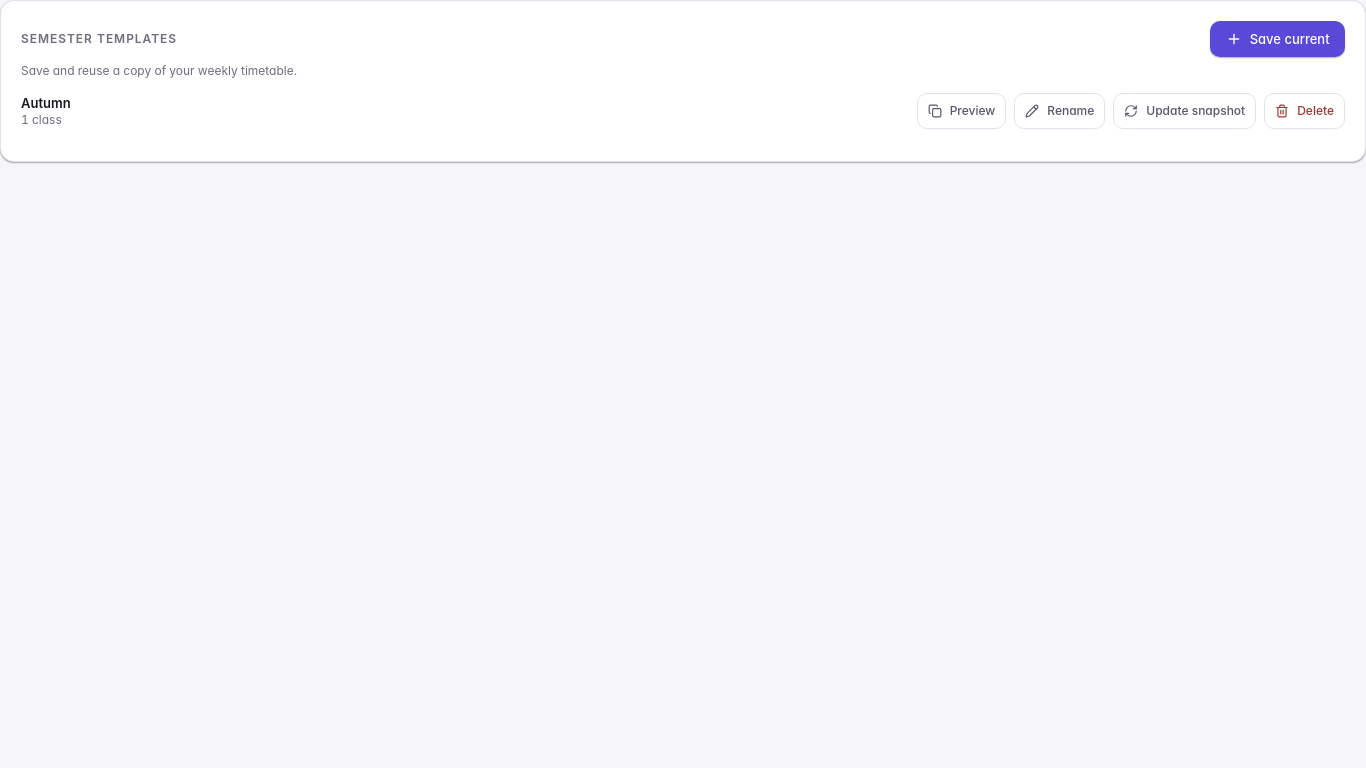
it: semester template UI › rejects duplicate template names before saving
The image size is (1366, 768).
Click the button "Save current" at [1278, 39], box [1210,21,1345,57]
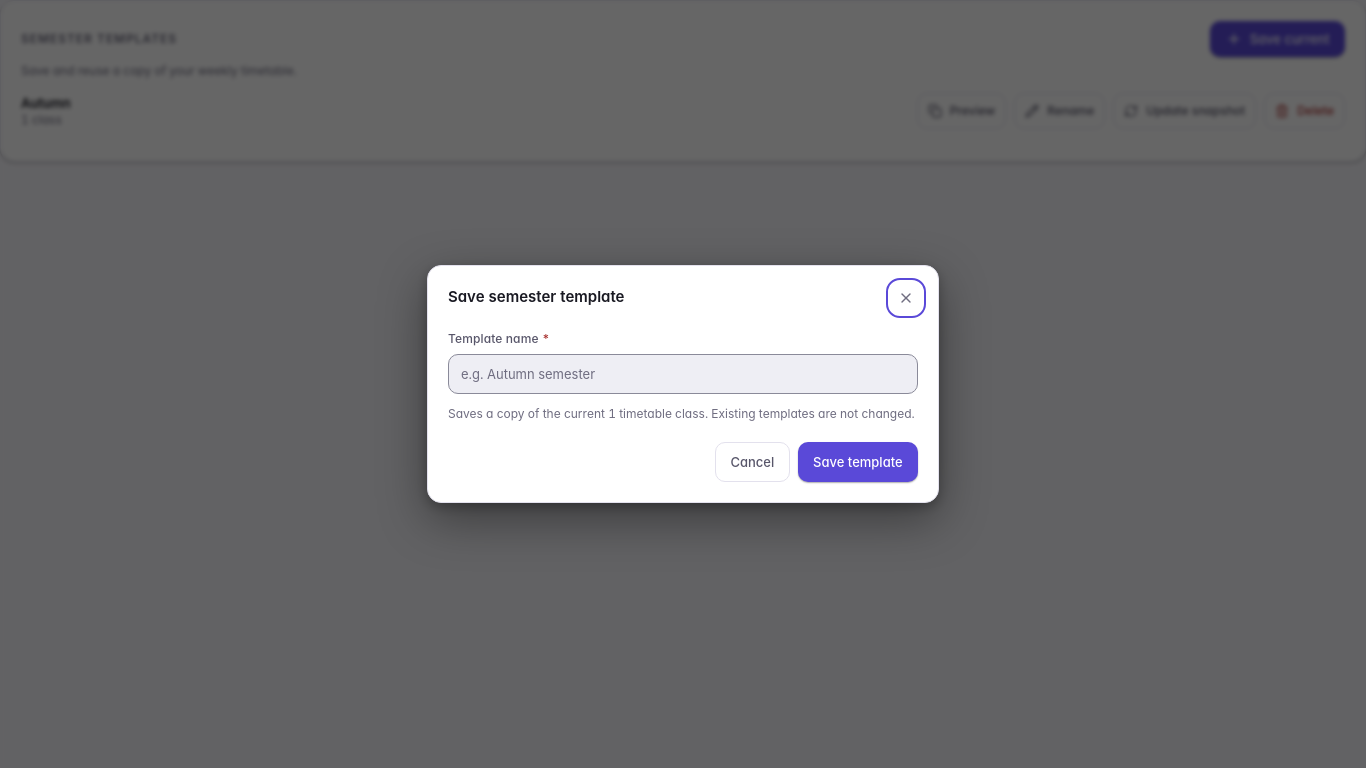
Type " autumn " into the field labelled "Template name *" at [683, 374], box [448,354,918,394]
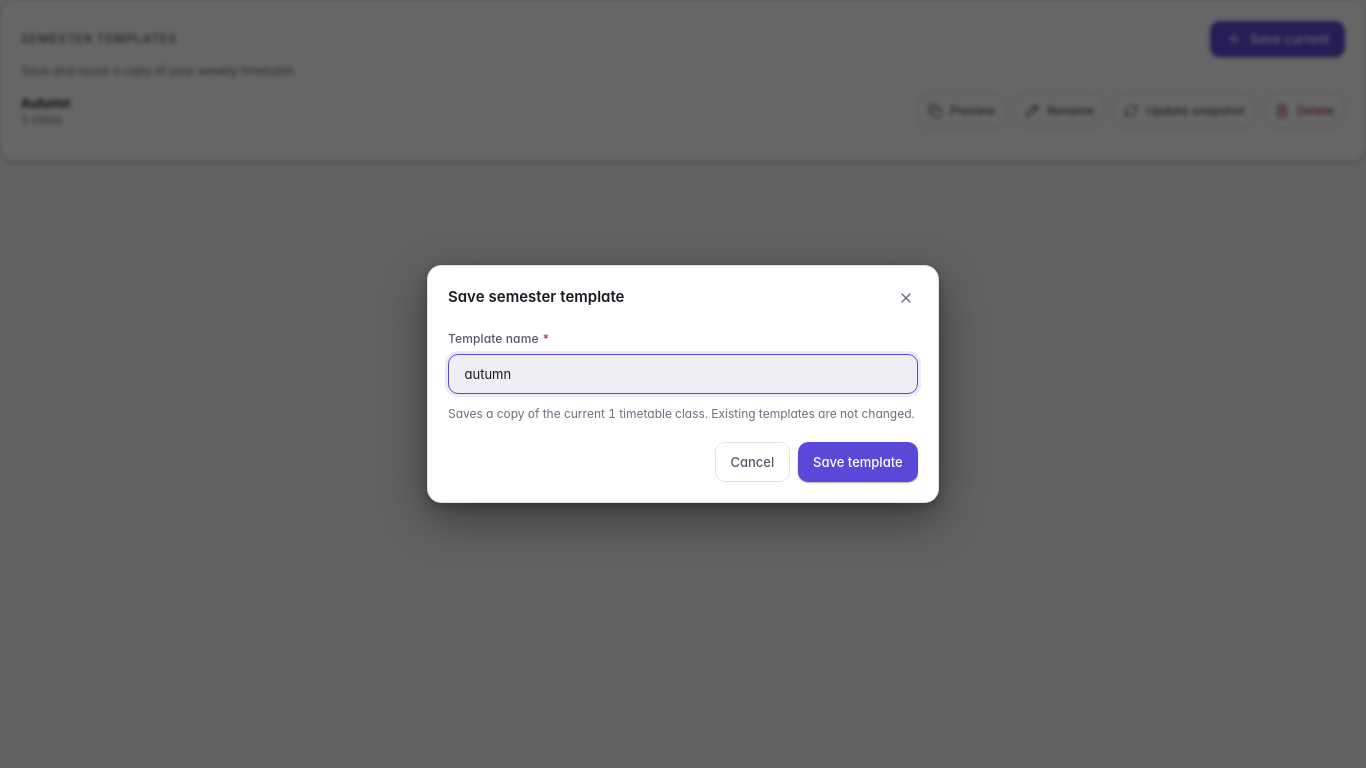
Click the button "Save template" at [858, 462], box [798,442,918,482]
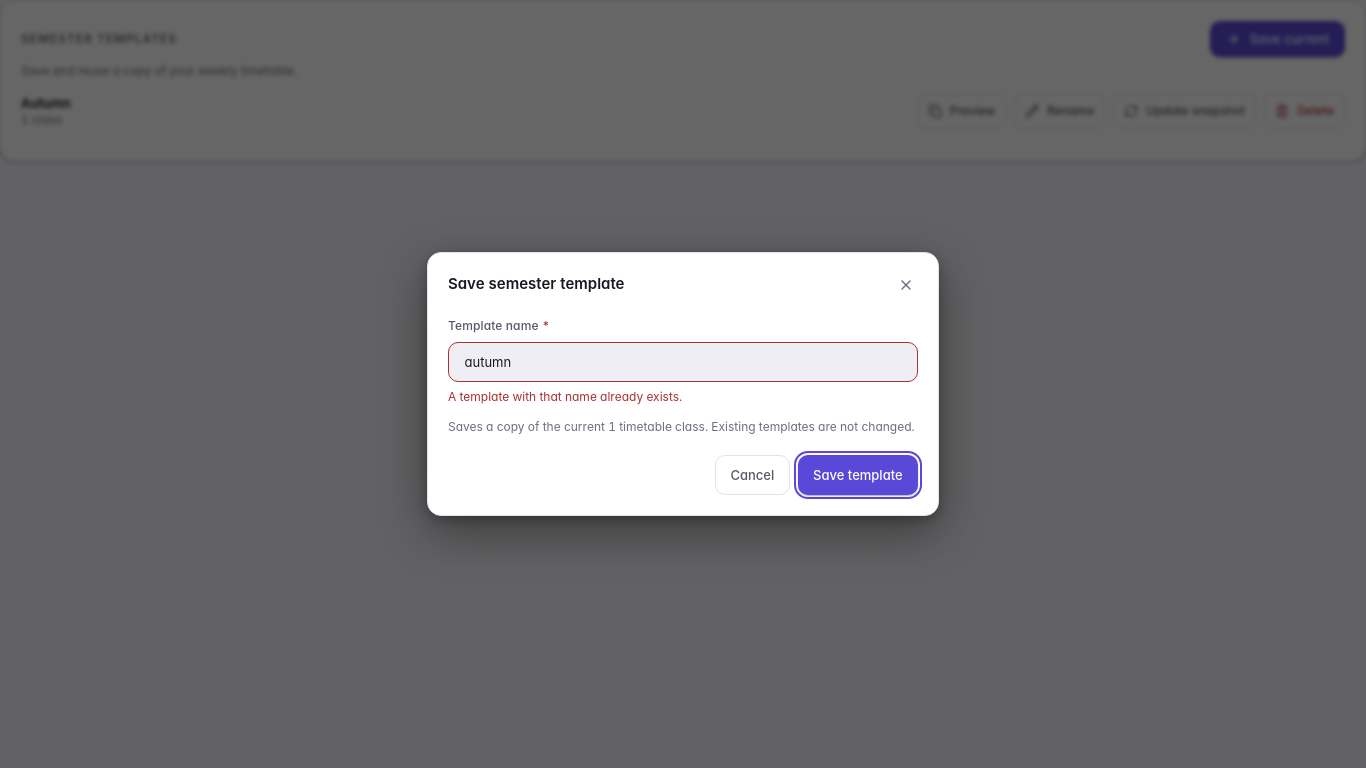
expect the message shows "already exists": met, box [448,389,682,404]
